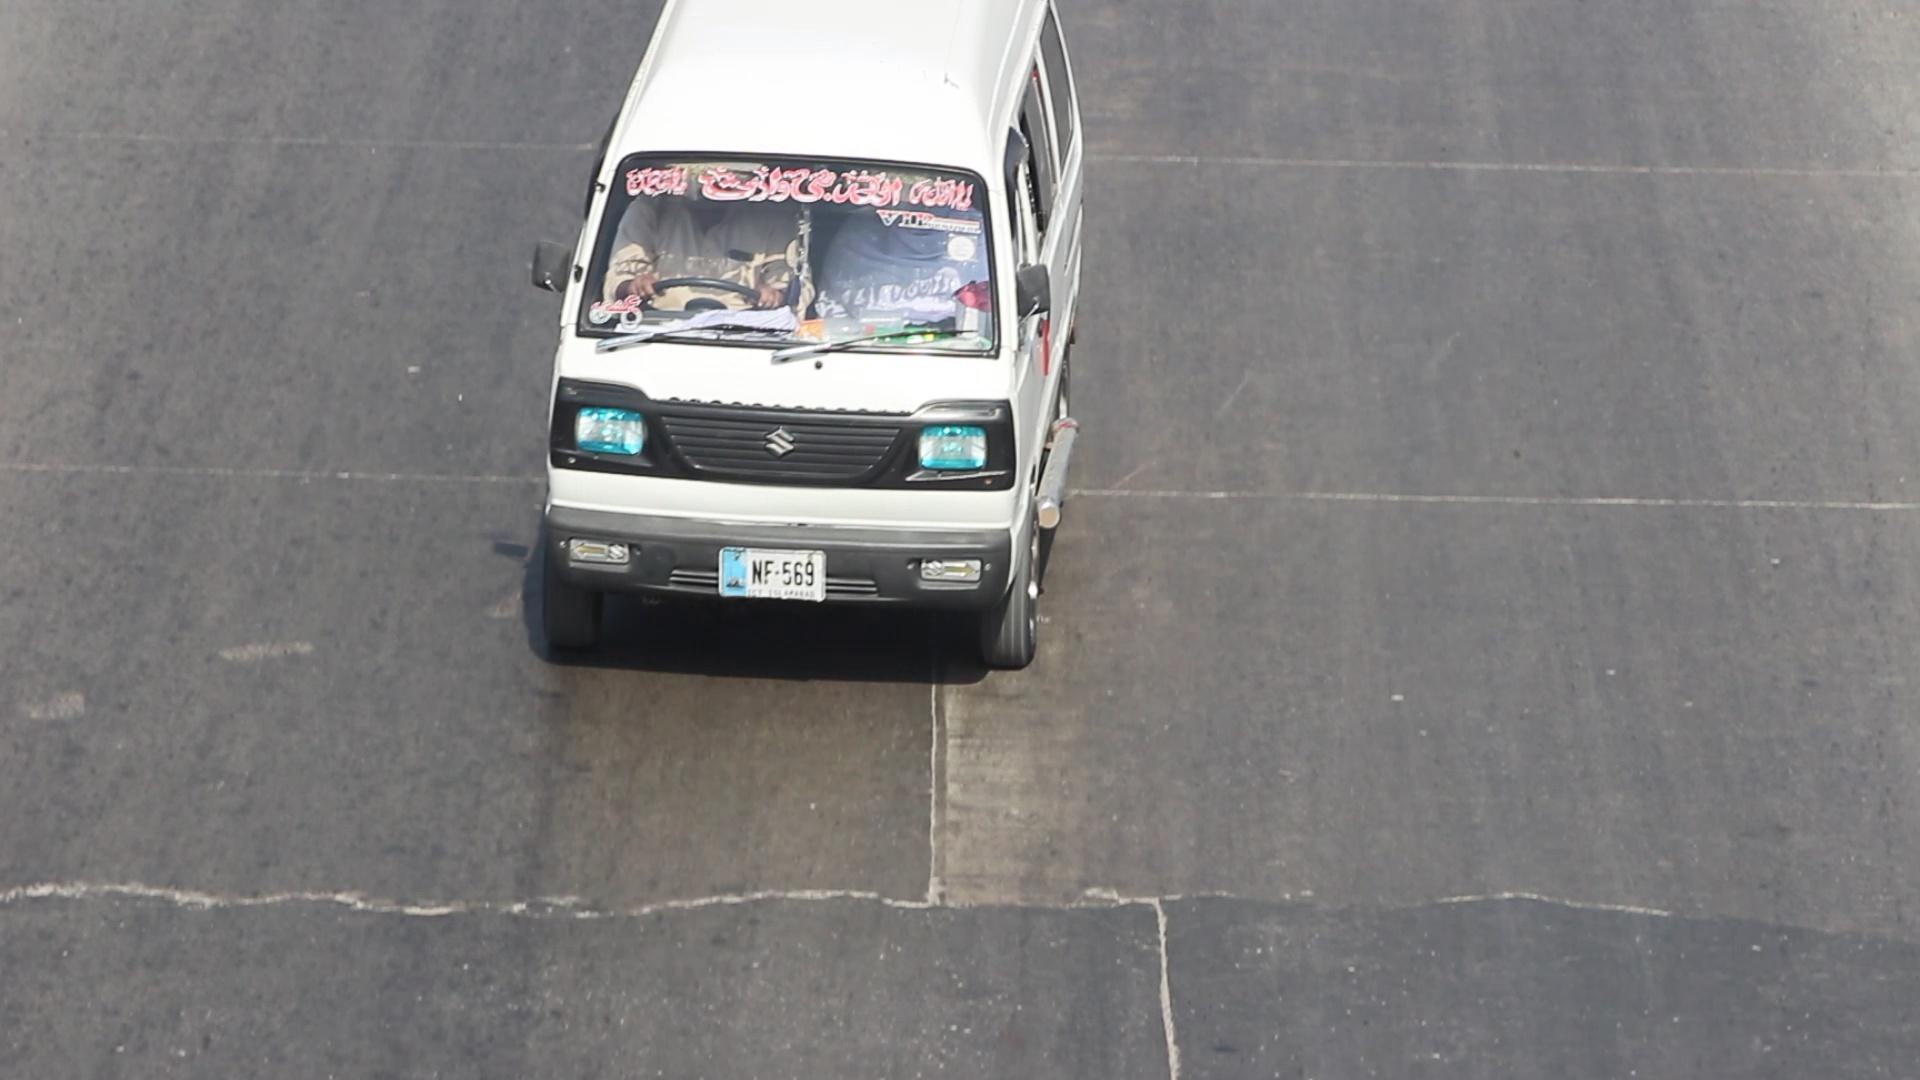windshield: (560, 137, 1007, 373)
